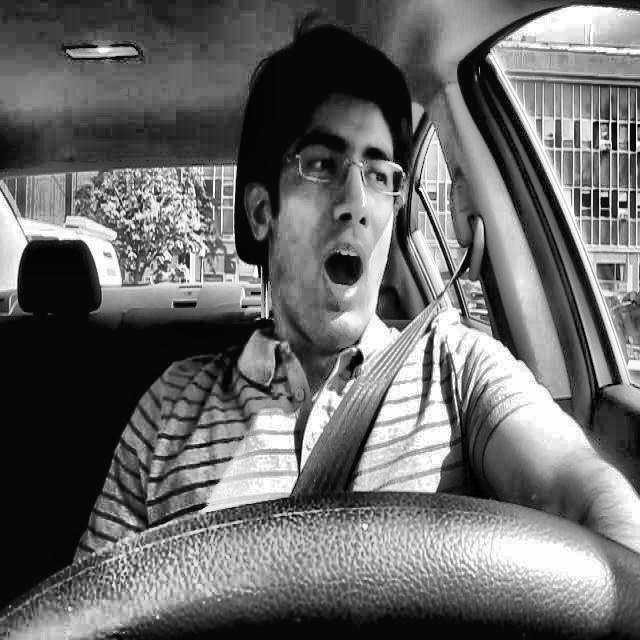open_eyes: (360, 154, 406, 199), (296, 144, 346, 184)
open_mouth: (304, 235, 380, 319)
